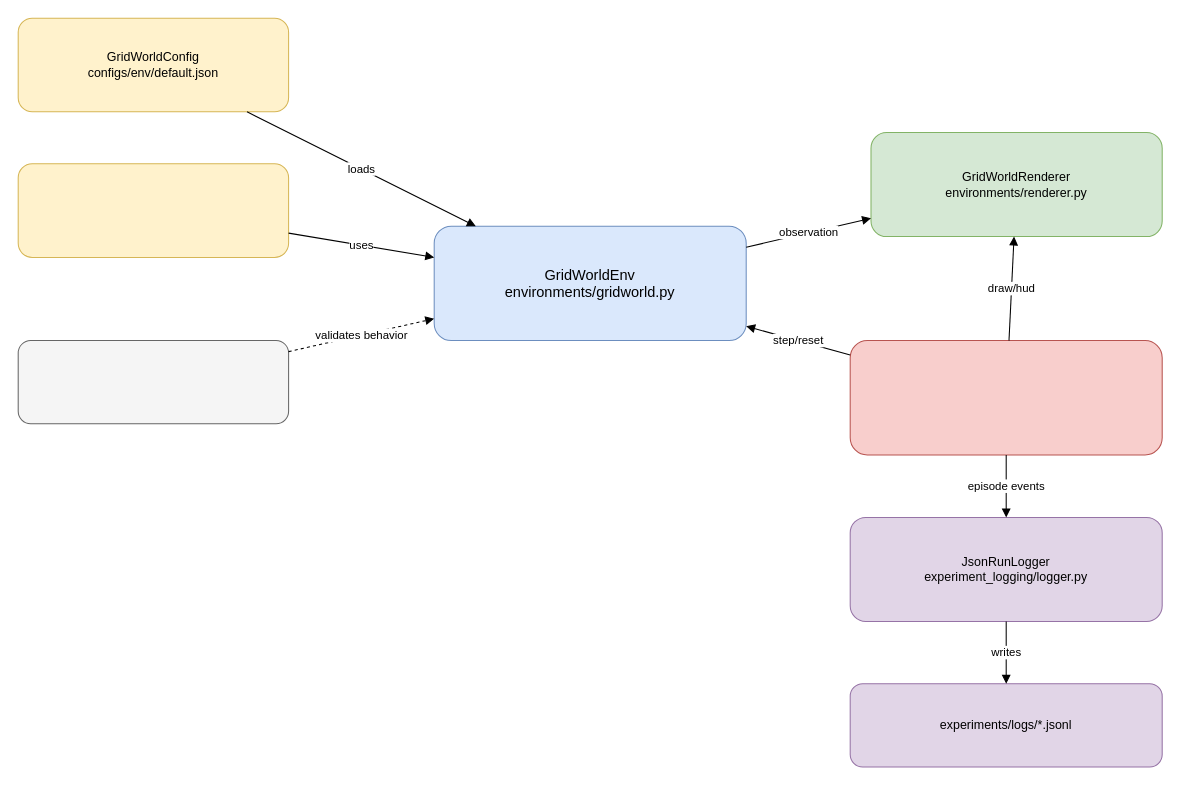
The diagram is 1180 pixels wide and 785 high, and some of its shapes have lost their labels. The shapes that lost their labels are listed below. From the top down, each one's box as (x1, y1, x2, y2) in pixels, then its label:
(17, 163, 289, 257): CellType + Position environments/objects.py
(17, 340, 289, 424): tests/test_environment.py
(849, 340, 1162, 455): manual_control.py Keyboard loop + HUD
